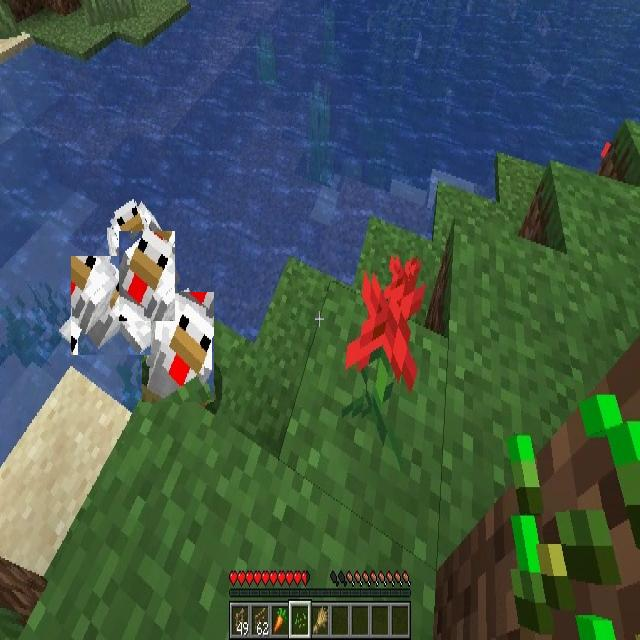duck: (142, 292, 214, 402), (71, 256, 151, 355), (119, 231, 175, 321), (107, 198, 167, 256)
